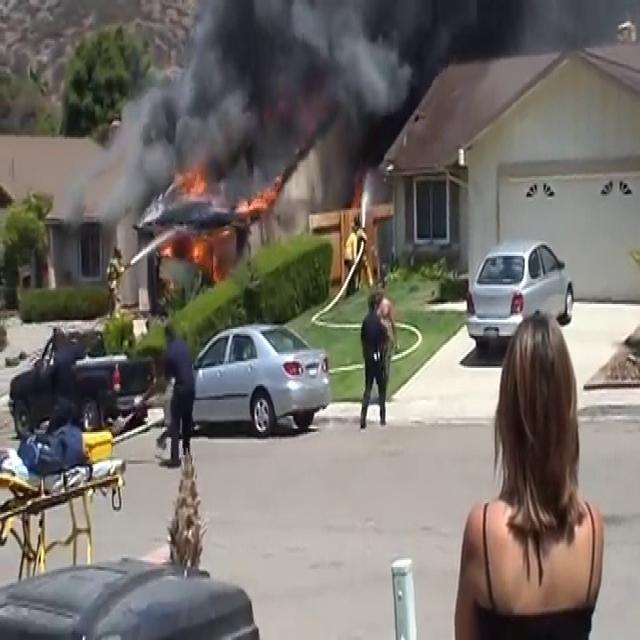Smoke: (139, 0, 422, 199)
